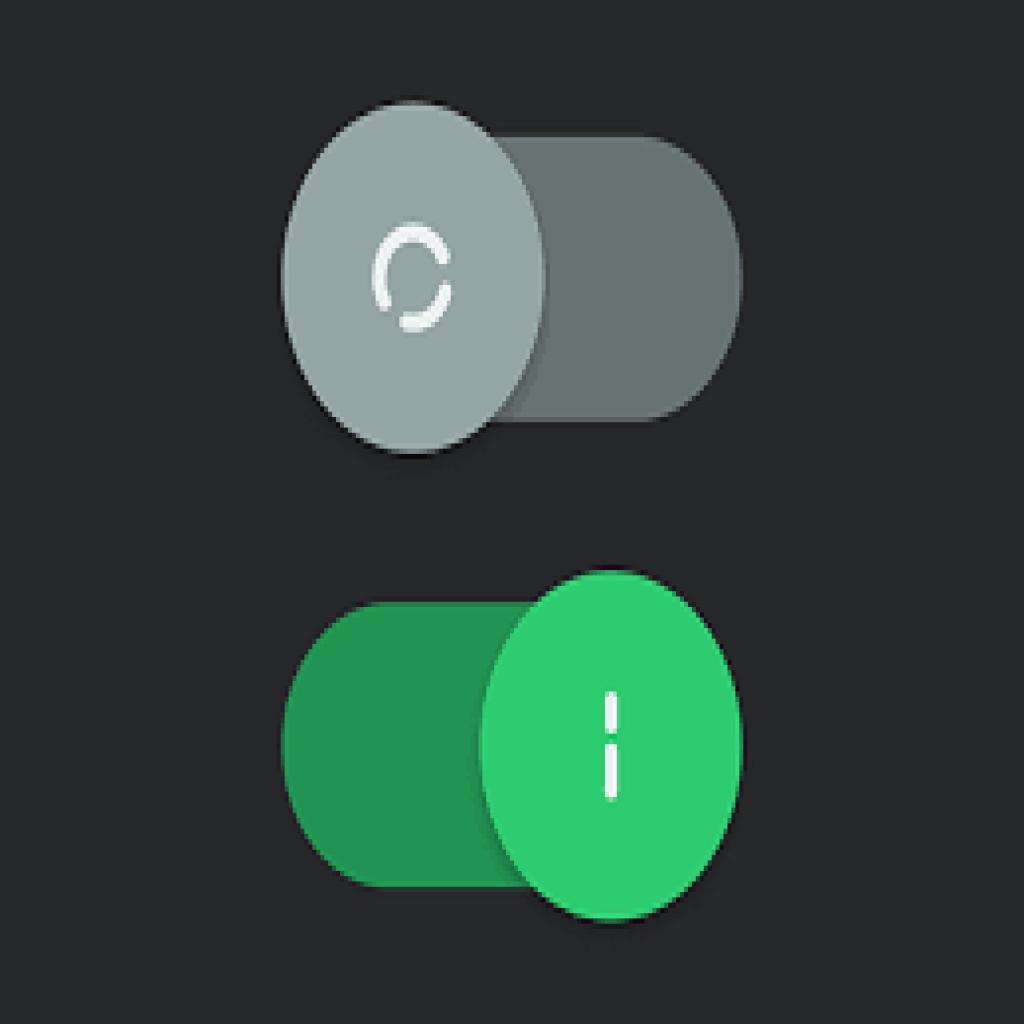switch: (282, 99, 746, 457), (281, 570, 745, 925)
